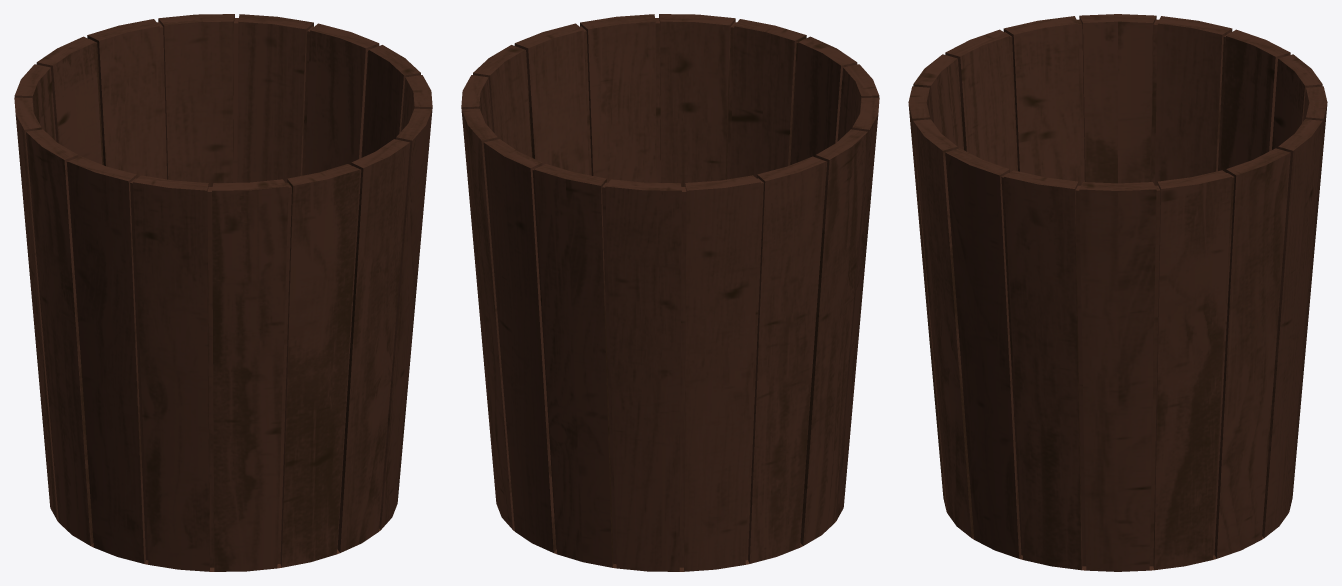
File: Bucket_2.fbx
The picture shows the model from 3 angles, left to right: view 1: azimuth 30°, elevation 25°; view 2: azimuth 150°, elevation 25°; view 3: azimuth 270°, elevation 25°; orthographic projection.
Visible parts, largest first — view 1: Bucket (No Water); view 2: Bucket (No Water); view 3: Bucket (No Water).
Boxes of the visible parts, left/top/right/bottom form: Bucket (No Water): left=14, top=14, right=432, bottom=571; Bucket (No Water): left=461, top=14, right=879, bottom=571; Bucket (No Water): left=908, top=14, right=1327, bottom=571.
Bounding box in the file's own units: 34.56 × 36 × 34.56.
Materials: 1 (1 with a texture image).
